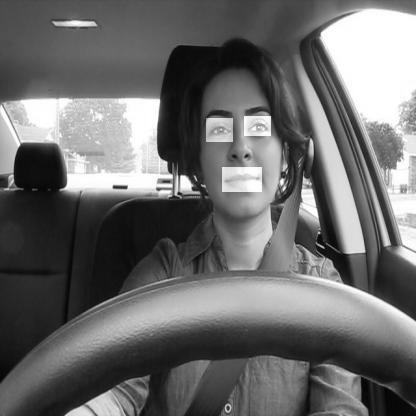seatbelt: (163, 2, 300, 416)
